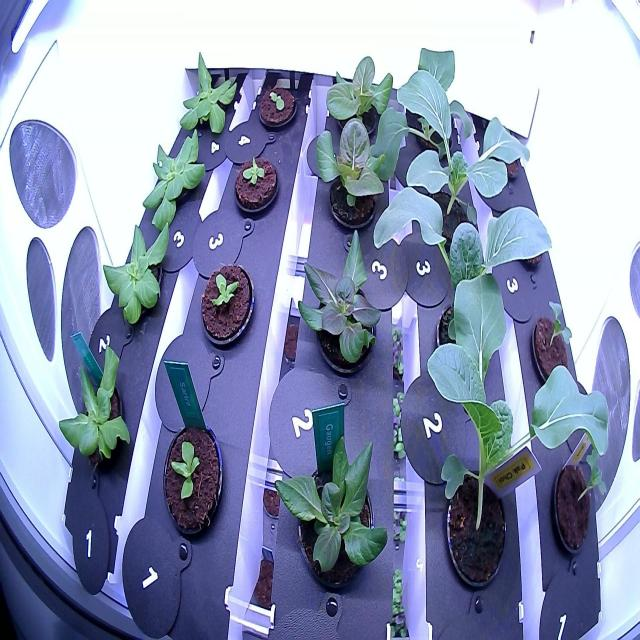germination: (251, 78, 300, 134)
young: (270, 422, 393, 600), (287, 222, 386, 382), (56, 339, 136, 494), (303, 101, 390, 226), (150, 416, 228, 544), (98, 216, 178, 334), (138, 121, 213, 234), (318, 40, 396, 145), (171, 43, 242, 149), (194, 252, 260, 349), (228, 148, 282, 223)
